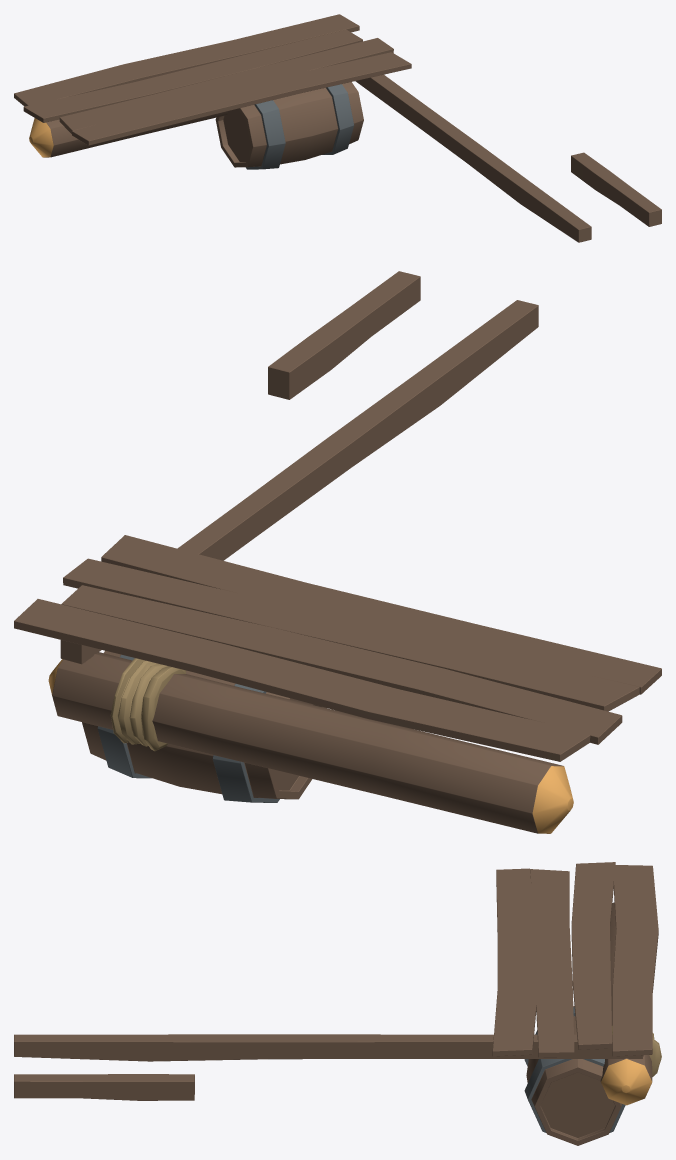
Rendered from RaftModule.fbx.
The picture shows the model from 3 angles, top to bottom: view 1: azimuth 30°, elevation 25°; view 2: azimuth 150°, elevation 25°; view 3: azimuth 270°, elevation 25°; orthographic projection. The views are drawn at different scales.
Parts seen in each view (by area): view 1: Cube.008, Cube.002, Cube.005, Cube.007, Cube.004; view 2: Cube.008, Cube.004, Cube.005, Cube.002, Cube.007, Cube.003; view 3: Cube.008, Cube.005, Cube.002, Cube.007, Cube.004.
Part boxes in pixels (bbox=[...]): Cube.008: bbox=[14, 14, 411, 145]; Cube.002: bbox=[215, 82, 363, 169]; Cube.005: bbox=[355, 74, 591, 242]; Cube.007: bbox=[571, 152, 661, 226]; Cube.004: bbox=[29, 111, 228, 157]; Cube.008: bbox=[14, 535, 661, 761]; Cube.004: bbox=[48, 652, 573, 833]; Cube.005: bbox=[60, 300, 538, 664]; Cube.002: bbox=[82, 650, 326, 802]; Cube.007: bbox=[268, 271, 420, 399]; Cube.003: bbox=[110, 658, 185, 751]; Cube.008: bbox=[492, 862, 658, 1057]; Cube.005: bbox=[14, 1034, 643, 1061]; Cube.002: bbox=[524, 1006, 625, 1145]; Cube.007: bbox=[14, 1074, 194, 1100]; Cube.004: bbox=[600, 902, 652, 1105].
Bounding box in the file's own units: 4.15 × 1.09 × 5.3.
